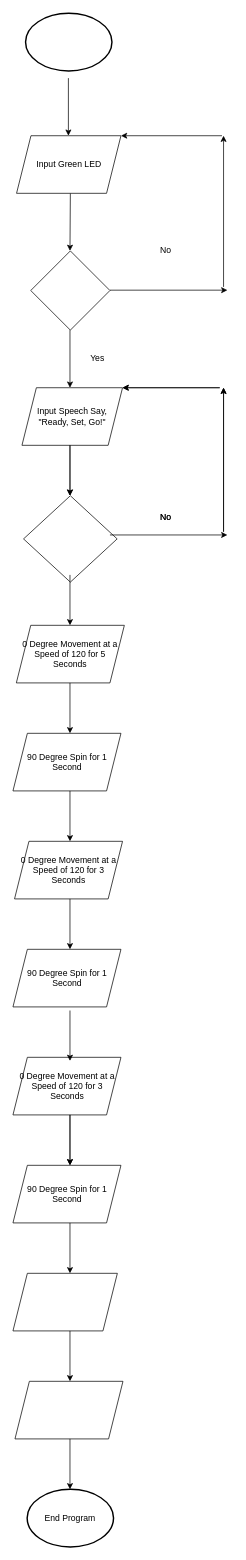
Image size: 246x1560. Some labels were removed from this diagram. Here are the shapes that lost their labels. From the top down, the centre of each, then its label:
[68,41]: Start Program
[70,290]: Green LED Enabled?
[70,538]: Registered Speech Input?
[64,1302]: Input Red LED
[68,1410]: Input Speech and Say, "I am done and I need water"
